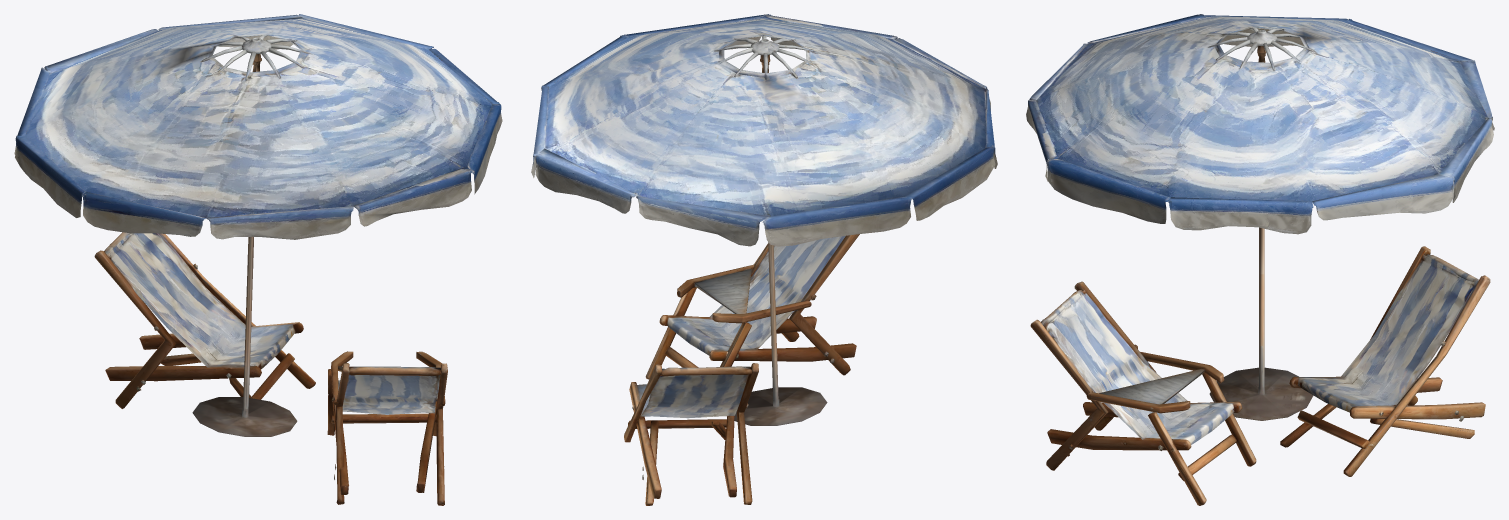
File: espreguicadeira_guarda-sol.glb
3 views of the same model, side by side, from view 1: azimuth 30°, elevation 25°; view 2: azimuth 150°, elevation 25°; view 3: azimuth 270°, elevation 25° (orthographic). The views are drawn at different scales.
Parts seen in each view (by area): view 1: tripo_node_d05b7a50-cc8a-4405-a992-58625b2e047d; view 2: tripo_node_d05b7a50-cc8a-4405-a992-58625b2e047d; view 3: tripo_node_d05b7a50-cc8a-4405-a992-58625b2e047d.
Part boxes in pixels (left/top/right/bottom): tripo_node_d05b7a50-cc8a-4405-a992-58625b2e047d: left=14, top=14, right=502, bottom=505; tripo_node_d05b7a50-cc8a-4405-a992-58625b2e047d: left=531, top=14, right=997, bottom=505; tripo_node_d05b7a50-cc8a-4405-a992-58625b2e047d: left=1026, top=14, right=1494, bottom=505.
Size of the model in its own units: 2.21 by 2.1 by 2.21.
1 material, 1 textured.
